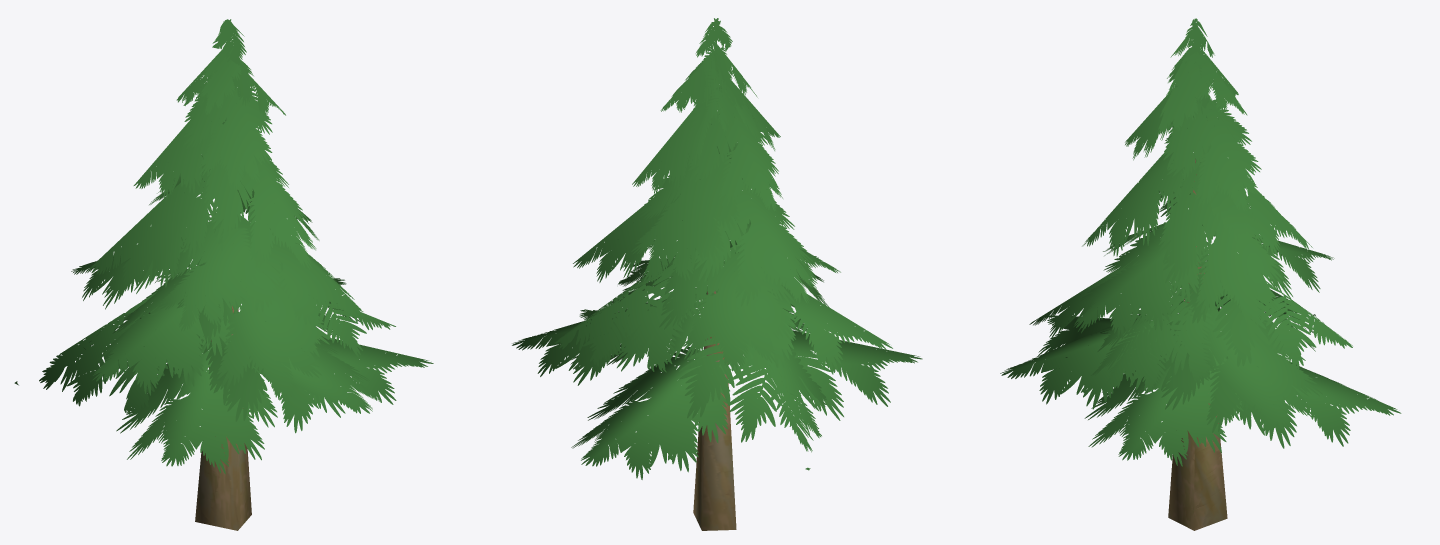
Rendered from m_env_collect_tree_cedar_01_lod3.fbx.
3 renders of one model, left to right at view 1: azimuth 30°, elevation 25°; view 2: azimuth 150°, elevation 25°; view 3: azimuth 270°, elevation 25°, orthographic.
Visible parts, largest first — view 1: m_env_collect_tree_cedar_01_lod3; view 2: m_env_collect_tree_cedar_01_lod3; view 3: m_env_collect_tree_cedar_01_lod3.
Boxes of the visible parts, x1,y1,x2,y2 form: m_env_collect_tree_cedar_01_lod3: [14, 19, 433, 530]; m_env_collect_tree_cedar_01_lod3: [512, 18, 922, 530]; m_env_collect_tree_cedar_01_lod3: [1000, 18, 1401, 530].
Bounding box in the file's own units: 707 × 936 × 759.
